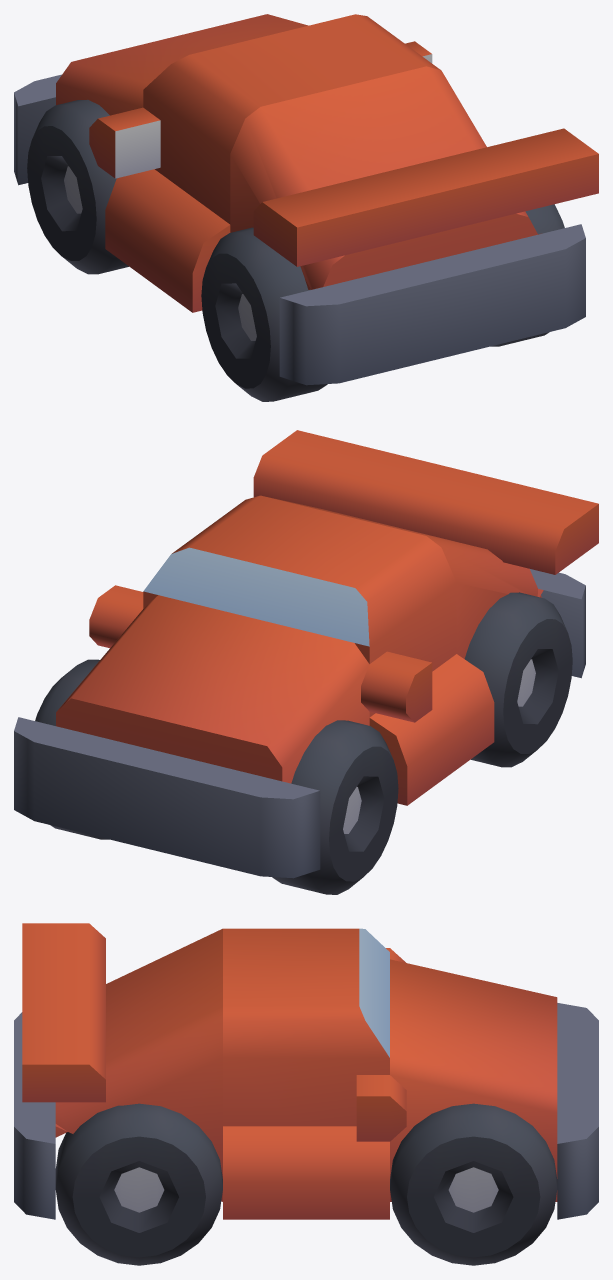
File: toy-racer-low.glb
3 views of the same model, one above another, from view 1: azimuth 30°, elevation 25°; view 2: azimuth 150°, elevation 25°; view 3: azimuth 270°, elevation 25° (orthographic). The views are drawn at different scales.
Visible parts, largest first — view 1: vehicle-racer-low, wheel-bl, wheel-fl, wheel-br; view 2: vehicle-racer-low, wheel-bl, wheel-fl, wheel-fr; view 3: vehicle-racer-low, wheel-br, wheel-fr.
Part boxes in pixels (x1,y1,x2,y2): vehicle-racer-low: (14, 14, 598, 385); wheel-bl: (201, 227, 327, 401); wheel-fl: (27, 99, 128, 274); wheel-br: (491, 204, 564, 346); vehicle-racer-low: (14, 430, 598, 878); wheel-bl: (464, 592, 572, 767); wheel-fl: (272, 720, 398, 894); wheel-fr: (35, 659, 108, 839); vehicle-racer-low: (14, 923, 598, 1219); wheel-br: (55, 1103, 222, 1265); wheel-fr: (390, 1103, 557, 1265).
Bounding box in the file's own units: 0.525 × 0.3875 × 0.875.
